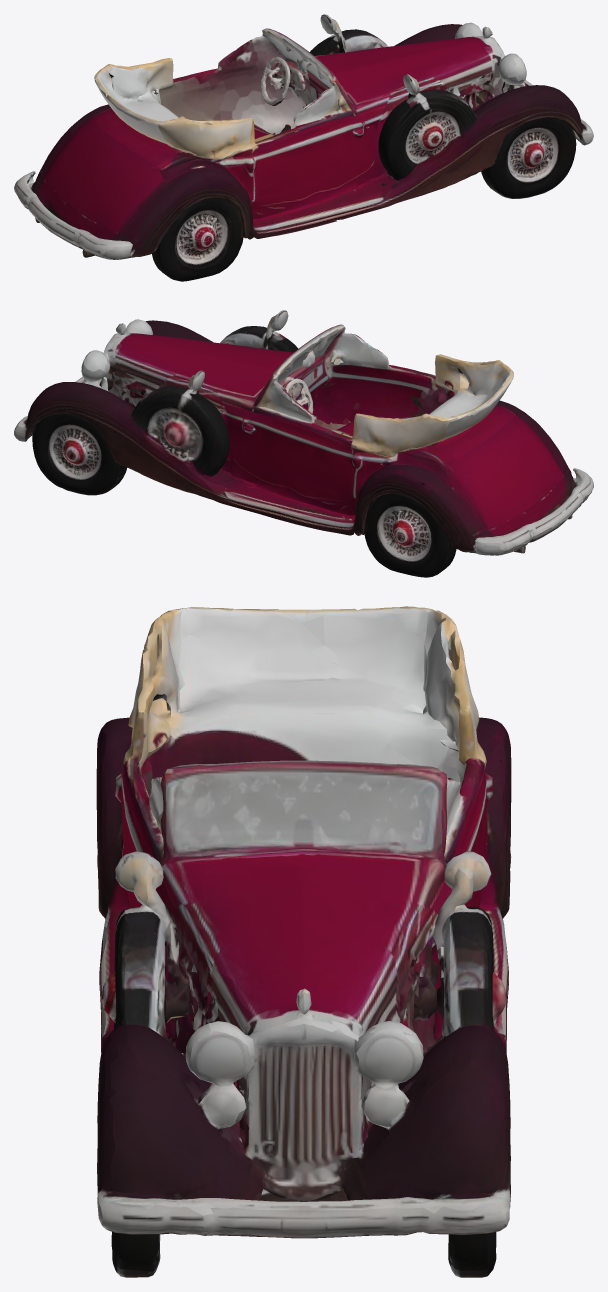
Rendered from retro_red.glb.
3 views of the same model, one above another, from view 1: azimuth 30°, elevation 25°; view 2: azimuth 150°, elevation 25°; view 3: azimuth 270°, elevation 25° (orthographic). The views are drawn at different scales.
Parts seen in each view (by area): view 1: textured_mesh.obj; view 2: textured_mesh.obj; view 3: textured_mesh.obj.
Boxes of the visible parts, x1,y1,x2,y2 form: textured_mesh.obj: [14, 14, 593, 281]; textured_mesh.obj: [14, 310, 593, 577]; textured_mesh.obj: [96, 606, 511, 1277].
Bounding box in the file's own units: 1.99 × 0.6103 × 0.7111.
1 material, 1 textured.
